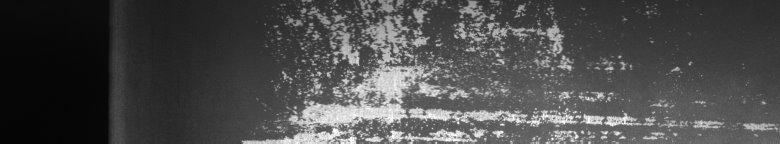kb: (256, 4, 776, 136)
